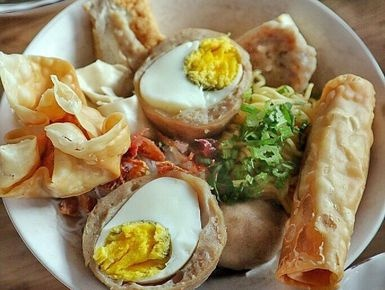bakso_malang: (1, 1, 375, 290)
